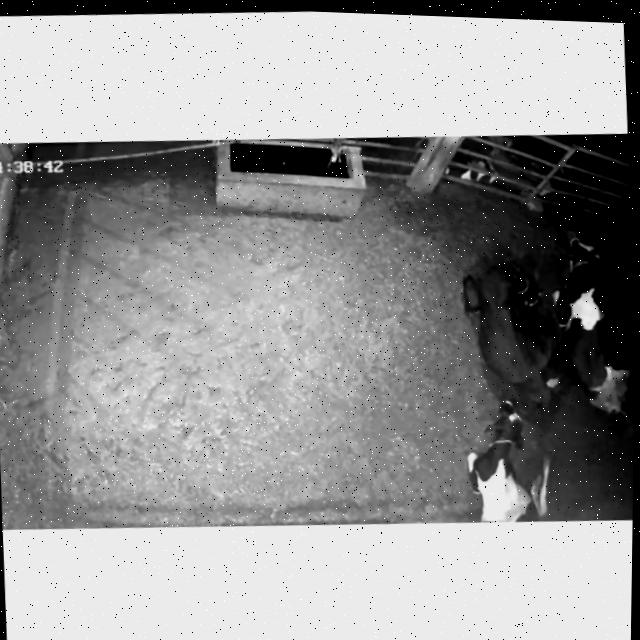lay: (451, 236, 574, 425), (543, 209, 637, 429), (438, 395, 560, 527)
